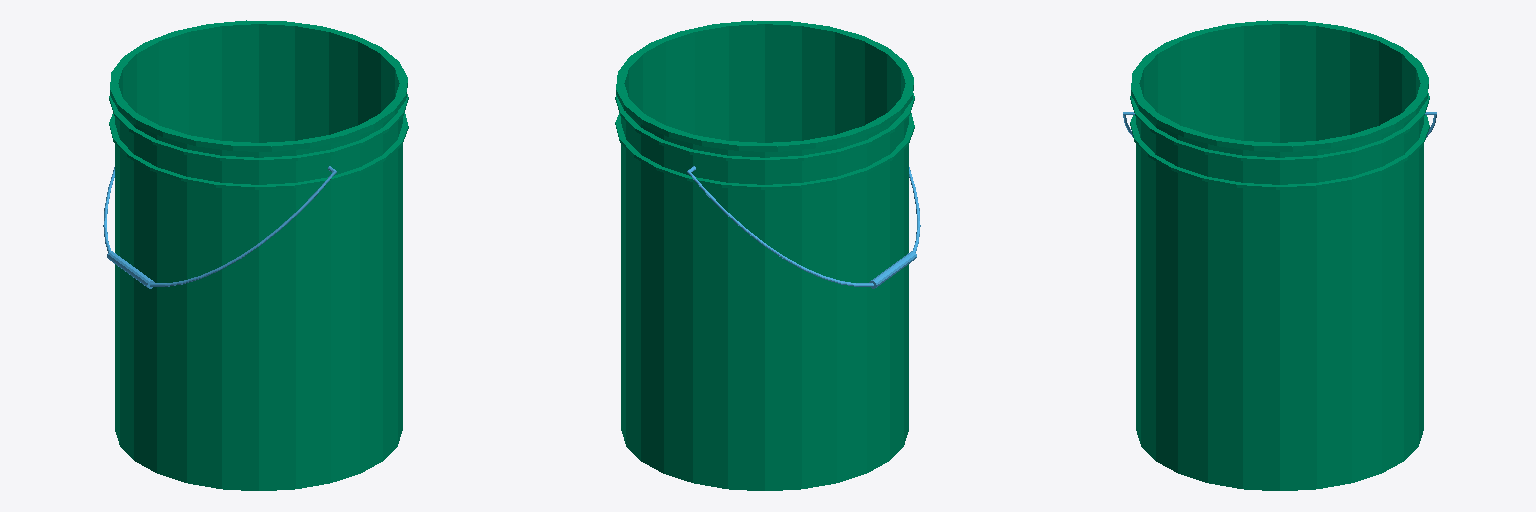
URDF robot description (partnet_2627c3acbf2993d7f9651db54962898):
<?xml version="1.0" ?>
<robot name="partnet_2627c3acbf2993d7f9651db54962898">
	<link name="base"/>
	<link name="link_0">
		<visual name="handle-1">
			<origin xyz="0 -0.6878317663455735 0.000856264051981295"/>
			<geometry>
				<mesh filename="textured_objs/original-4.obj"/>
			</geometry>
		</visual>
		<visual name="handle-1">
			<origin xyz="0 -0.6878317663455735 0.000856264051981295"/>
			<geometry>
				<mesh filename="textured_objs/original-3.obj"/>
			</geometry>
		</visual>
		<visual name="handle-1">
			<origin xyz="0 -0.6878317663455735 0.000856264051981295"/>
			<geometry>
				<mesh filename="textured_objs/original-2.obj"/>
			</geometry>
		</visual>
		<collision>
			<origin xyz="0 -0.6878317663455735 0.000856264051981295"/>
			<geometry>
				<mesh filename="textured_objs/original-4.obj"/>
			</geometry>
		</collision>
		<collision>
			<origin xyz="0 -0.6878317663455735 0.000856264051981295"/>
			<geometry>
				<mesh filename="textured_objs/original-3.obj"/>
			</geometry>
		</collision>
		<collision>
			<origin xyz="0 -0.6878317663455735 0.000856264051981295"/>
			<geometry>
				<mesh filename="textured_objs/original-2.obj"/>
			</geometry>
		</collision>
	</link>
	<joint name="joint_0" type="revolute">
		<origin xyz="0 0.6878317663455735 -0.000856264051981295"/>
		<axis xyz="-1 0 0"/>
		<child link="link_0"/>
		<parent link="link_1"/>
		<limit lower="-0.0" upper="4.624424386084175"/>
	</joint>
	<link name="link_1">
		<visual name="base_body-2">
			<origin xyz="0 0 0"/>
			<geometry>
				<mesh filename="textured_objs/original-5.obj"/>
			</geometry>
		</visual>
		<collision>
			<origin xyz="0 0 0"/>
			<geometry>
				<mesh filename="textured_objs/original-5.obj"/>
			</geometry>
		</collision>
	</link>
	<joint name="joint_1" type="fixed">
		<origin rpy="1.570796326794897 0 -1.570796326794897" xyz="0 0 0"/>
		<child link="link_1"/>
		<parent link="base"/>
	</joint>
</robot>

--- Render facts (derived) ---
Views: 3 orthographic renders of the robot side by side, from view 1: azimuth 30°, elevation 25°; view 2: azimuth 150°, elevation 25°; view 3: azimuth 270°, elevation 25°.
Robot: partnet_2627c3acbf2993d7f9651db54962898 — 3 links, 2 joints (1 revolute, 1 fixed); root link base; default pose: every joint at zero.
Visible links, largest first — view 1: link_1, link_0; view 2: link_1, link_0; view 3: link_1.
Link boxes in pixels (x1,y1,x2,y2): link_1: [109, 20, 408, 490]; link_0: [103, 166, 336, 288]; link_1: [615, 20, 914, 490]; link_0: [687, 166, 920, 288]; link_1: [1130, 20, 1429, 490].
Bounding box of the posed robot: 1.16 × 1.21 × 1.48 m (x, y, z).
Meshes: 4 distinct files referenced, 4 mesh visuals loaded (4 OBJ).
